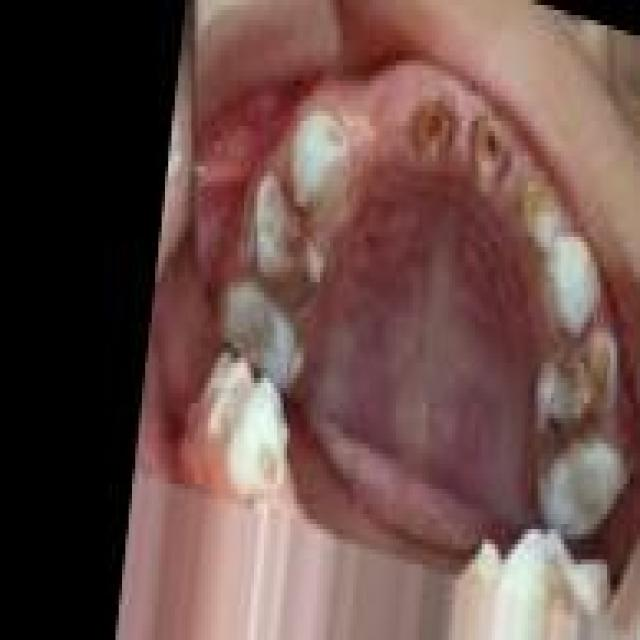caries: (537, 329, 628, 442), (221, 287, 307, 398), (248, 189, 328, 294), (398, 92, 460, 175), (518, 162, 568, 264), (463, 113, 509, 195)
